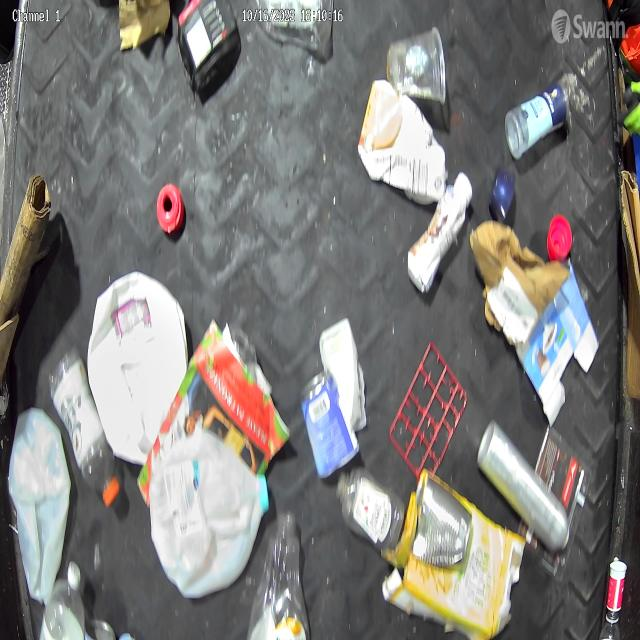can: (476, 419, 572, 552), (299, 368, 360, 480), (412, 476, 472, 568)
milk_jug: (149, 430, 270, 601), (88, 270, 188, 464), (8, 406, 72, 605)
non_white_jug: (359, 80, 446, 206)
plastic_bottle: (50, 344, 120, 508), (247, 509, 311, 640), (336, 468, 406, 556), (505, 84, 569, 160), (40, 559, 86, 640)
